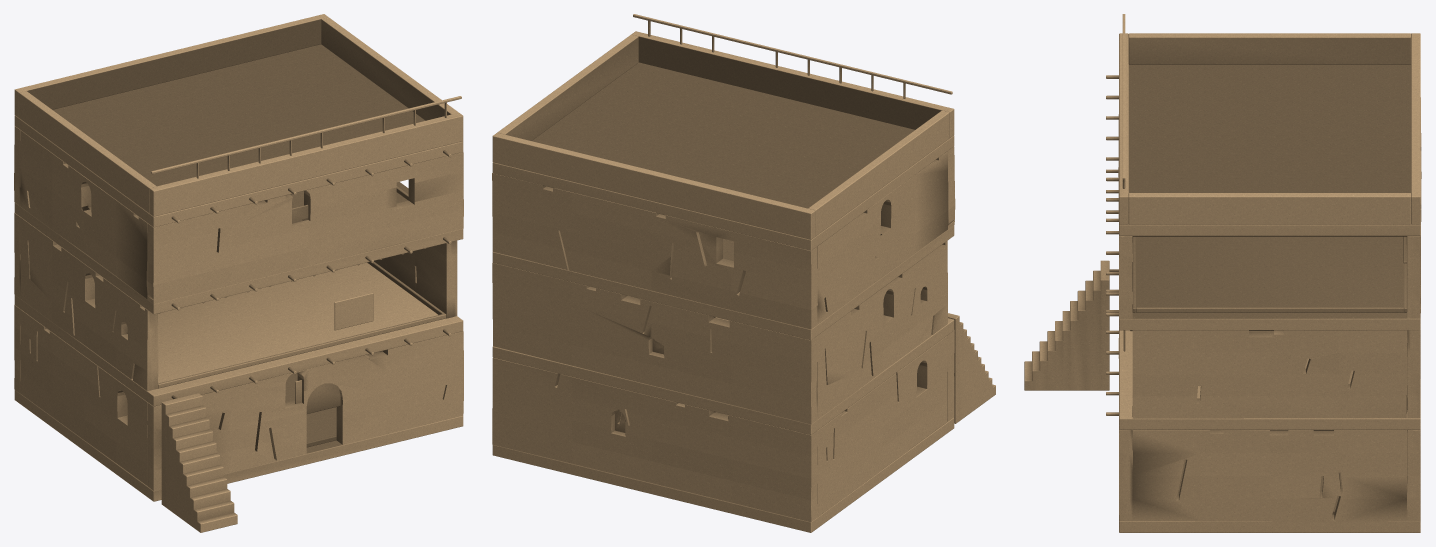
Rendered from house_5.glb.
3 renders of one model, left to right at view 1: azimuth 30°, elevation 25°; view 2: azimuth 150°, elevation 25°; view 3: azimuth 270°, elevation 25°, orthographic. The views are drawn at different scales.
Parts seen in each view (by area): view 1: house; view 2: house; view 3: house.
Boxes of the visible parts, x1=… form: house: x1=14, y1=14, x2=463, y2=532; house: x1=492, y1=14, x2=995, y2=532; house: x1=1024, y1=14, x2=1421, y2=532.
Bounding box in the file's own units: 12.08 × 12.18 × 12.32.
1 material, 1 textured.
